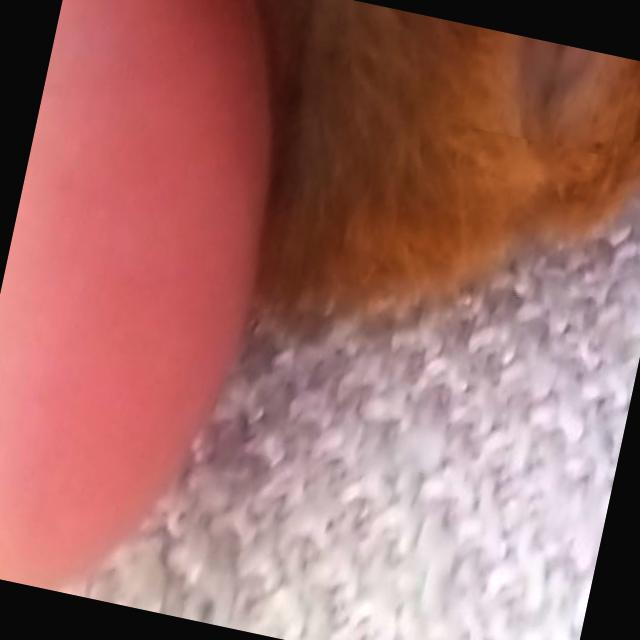fem: (458, 27, 628, 156)
